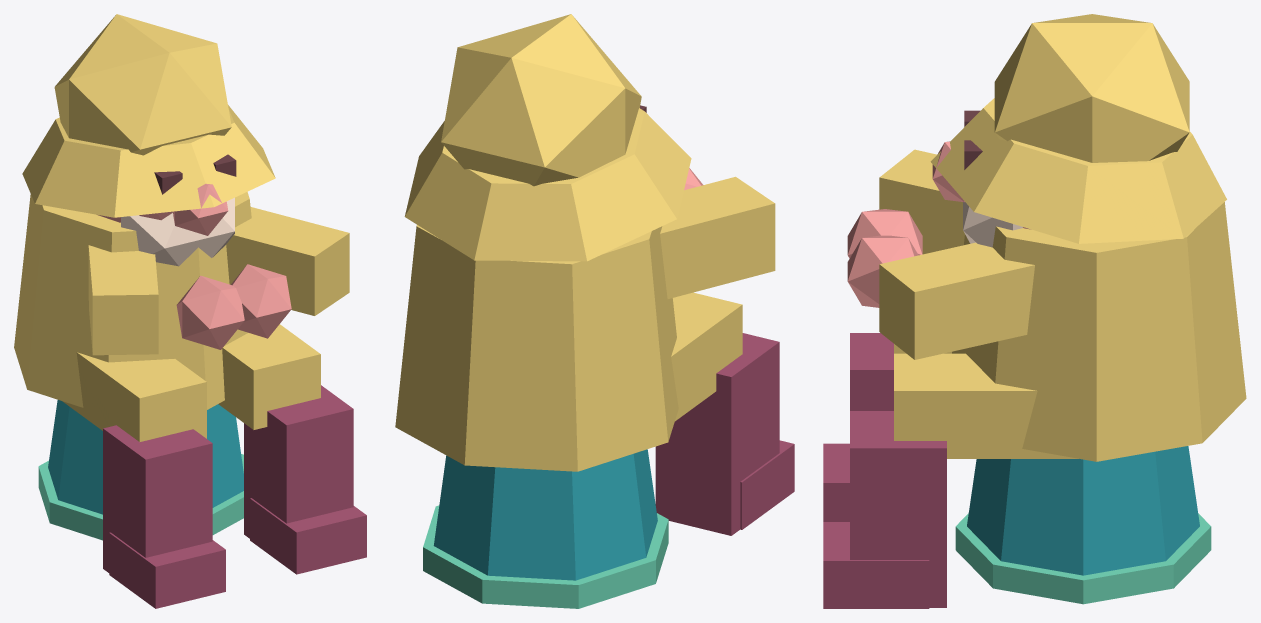
Rendered from fisher.glb.
3 views of the same model, side by side, from view 1: azimuth 30°, elevation 25°; view 2: azimuth 150°, elevation 25°; view 3: azimuth 270°, elevation 25° (orthographic). The views are drawn at different scales.
Parts seen in each view (by area): view 1: Body, Crown, Brim, BootR, BootL, ThighR, ArmL, Bucket, ThighL, ArmR, FootL, FootR (+5 smaller); view 2: Body, Crown, Brim, Bucket, BootR, ArmR, Rim, ThighR, FootR; view 3: Body, Crown, Bucket, Brim, ArmL, BootL, ThighL, Rim, FootL, ArmR, BootR, HandL (+4 smaller).
Boxes of the visible parts, x1,y1,x2,y2 form: Body: (14, 192, 251, 409); Crown: (54, 14, 231, 155); Brim: (22, 105, 275, 217); BootR: (103, 425, 212, 572); BootL: (244, 385, 353, 538); ThighR: (62, 352, 206, 441); ArmL: (226, 207, 349, 315); Bucket: (48, 400, 243, 514); ThighL: (218, 324, 320, 429); ArmR: (88, 245, 158, 355); FootL: (250, 498, 366, 574); FootR: (109, 532, 225, 608); Body: (395, 225, 678, 471); Crown: (441, 14, 641, 186); Brim: (404, 108, 691, 261); Bucket: (433, 449, 657, 580); BootR: (655, 333, 779, 535); ArmR: (660, 176, 775, 298); Rim: (423, 505, 668, 608); ThighR: (671, 292, 742, 421); FootR: (740, 440, 794, 529); Body: (952, 202, 1246, 461); Crown: (994, 14, 1189, 162); Bucket: (967, 446, 1199, 575); Brim: (930, 98, 1226, 243); ArmL: (879, 242, 1034, 359); BootL: (850, 411, 946, 607); ThighL: (894, 353, 1078, 458); Rim: (955, 513, 1211, 604); FootL: (823, 522, 929, 608); ArmR: (879, 149, 964, 254); BootR: (850, 333, 893, 410); HandL: (847, 235, 918, 307).
Size of the model in its own units: 0.7661 by 1.32 by 0.96.
